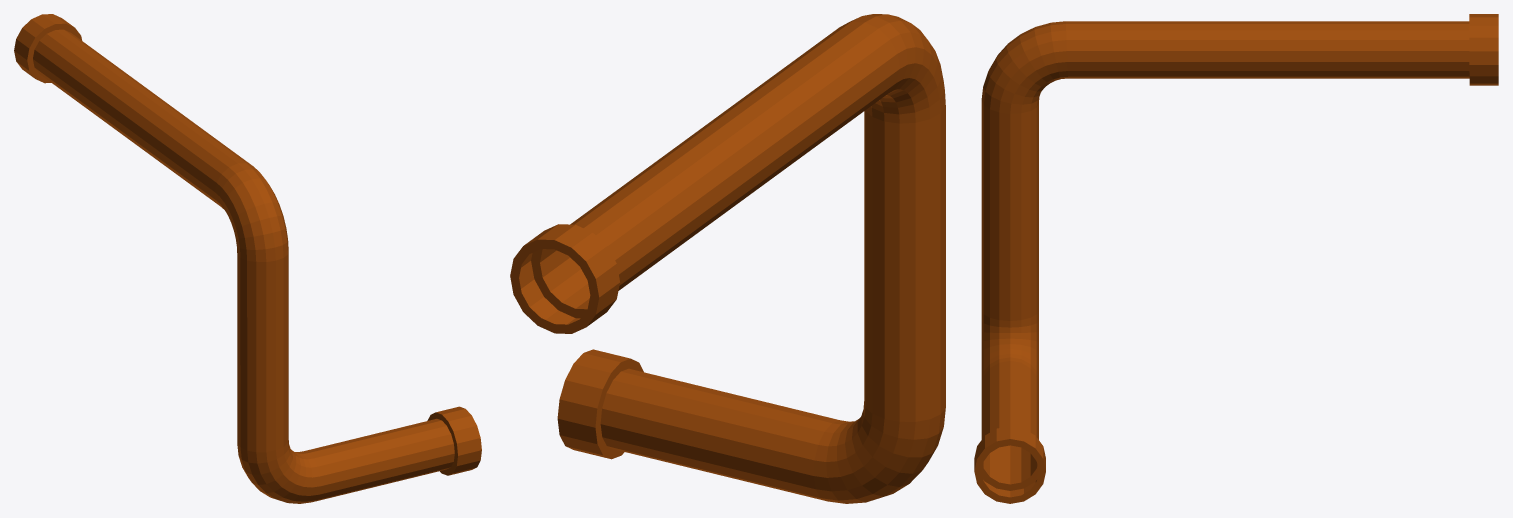
Rendered from Pipe4.fbx.
3 renders of one model, left to right at view 1: azimuth 30°, elevation 25°; view 2: azimuth 150°, elevation 25°; view 3: azimuth 270°, elevation 25°, orthographic. The views are drawn at different scales.
Parts seen in each view (by area): view 1: Plane; view 2: Plane; view 3: Plane.
Part boxes in pixels (box(x1,y1,x2,y2)): Plane: box(14, 14, 481, 503); Plane: box(510, 14, 945, 503); Plane: box(974, 14, 1498, 503).
Bounding box in the file's own units: 513 × 725 × 913.
